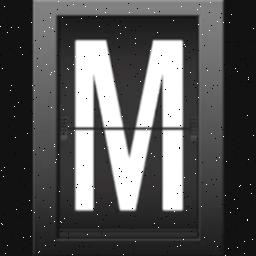m: (60, 26, 208, 240)
